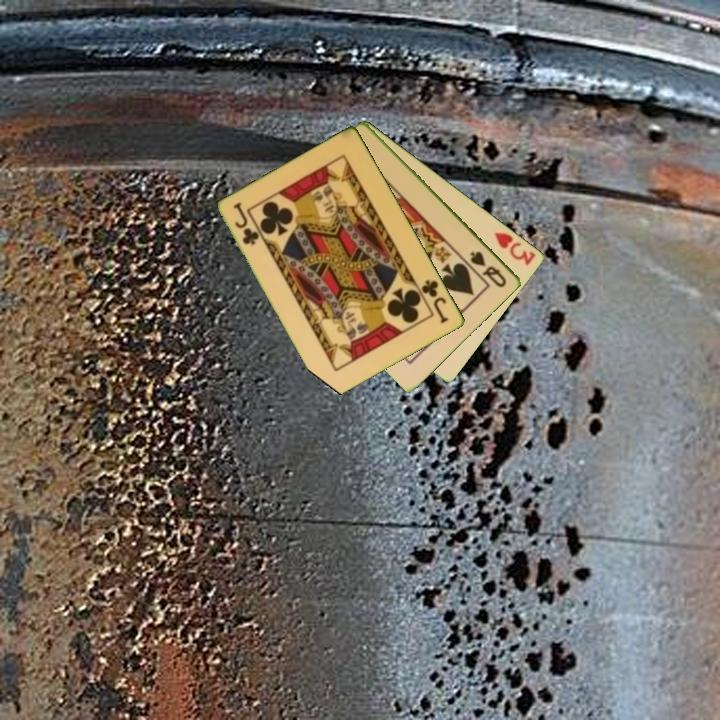3h: (491, 228, 539, 269)
Jc: (418, 276, 452, 326), (230, 199, 262, 248)
Qs: (466, 248, 510, 290)
